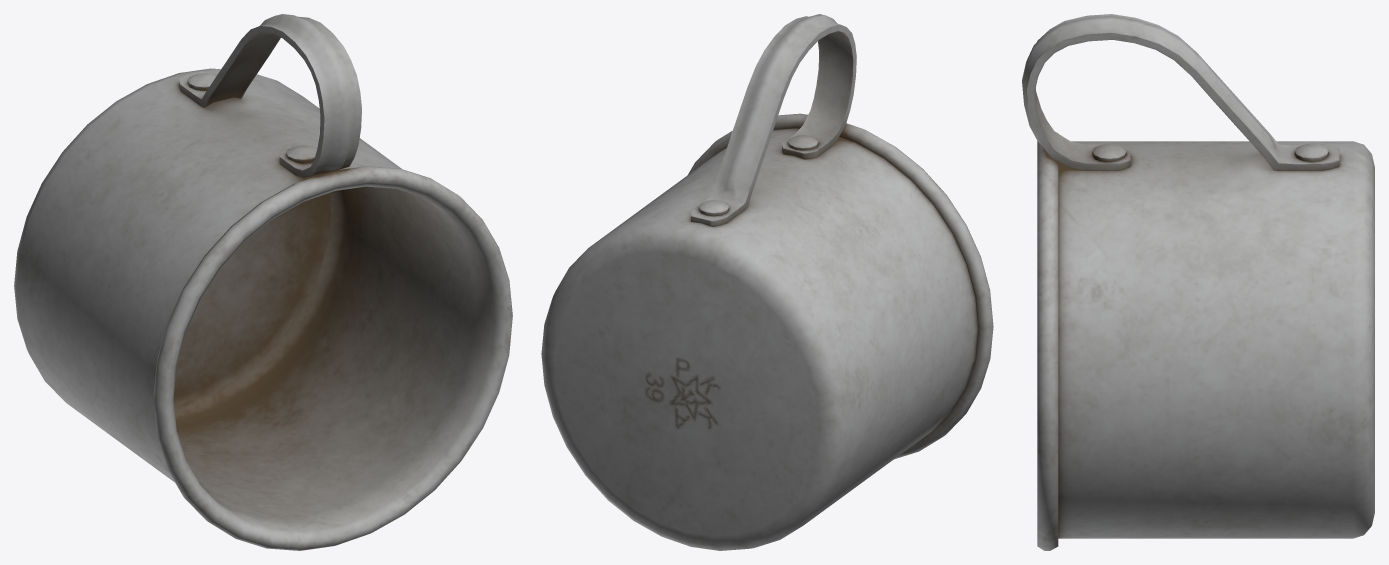
Rendered from aluminum-mug-7bc2b1.glb.
The picture shows the model from 3 angles, left to right: view 1: azimuth 30°, elevation 25°; view 2: azimuth 150°, elevation 25°; view 3: azimuth 270°, elevation 25°; orthographic projection. The views are drawn at different scales.
Visible parts, largest first — view 1: PropMesh; view 2: PropMesh; view 3: PropMesh.
Boxes of the visible parts, x1,y1,x2,y2 form: PropMesh: (14, 14, 512, 550); PropMesh: (541, 14, 993, 550); PropMesh: (1022, 14, 1374, 550).
Size of the model in its own units: 1.59 by 2.14 by 1.33.
Materials: 1 (1 with a texture image).
